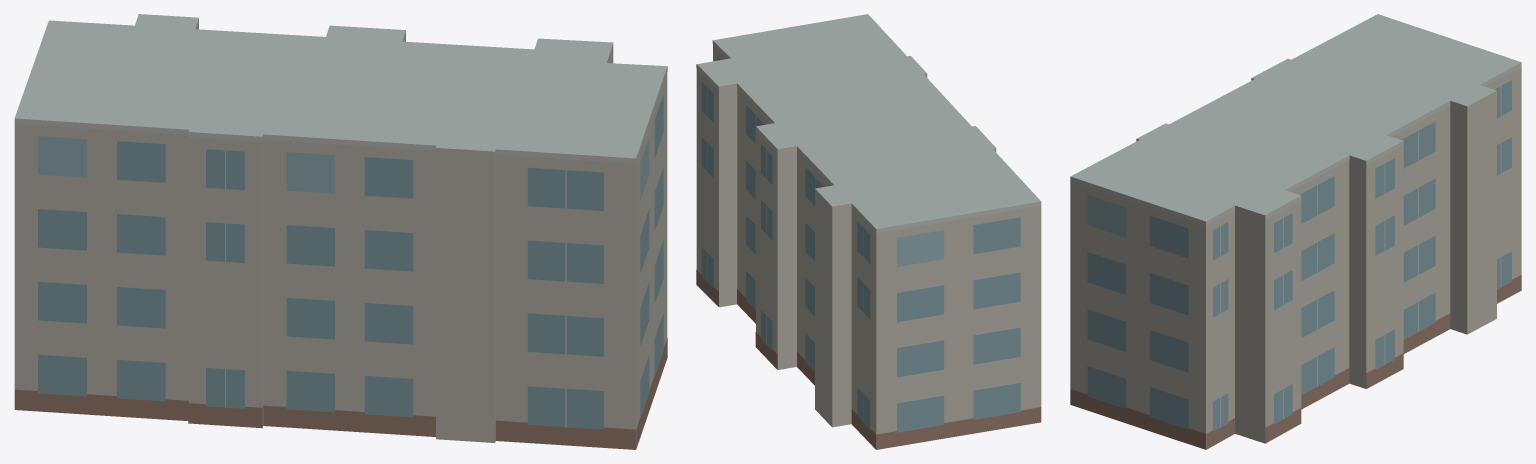
The model's file is survey-upis-32890384.glb.
The picture shows the model from 3 angles, left to right: view 1: azimuth 30°, elevation 25°; view 2: azimuth 150°, elevation 25°; view 3: azimuth 270°, elevation 25°; orthographic projection. The views are drawn at different scales.
Parts seen in each view (by area): view 1: survey-upis-32890384.tmp; view 2: survey-upis-32890384.tmp; view 3: survey-upis-32890384.tmp.
Boxes of the visible parts, x1,y1,x2,y2 form: survey-upis-32890384.tmp: (14,14,667,449); survey-upis-32890384.tmp: (696,14,1041,449); survey-upis-32890384.tmp: (1070,14,1521,449).
Bounding box in the file's own units: 25.37 × 13 × 23.31.
